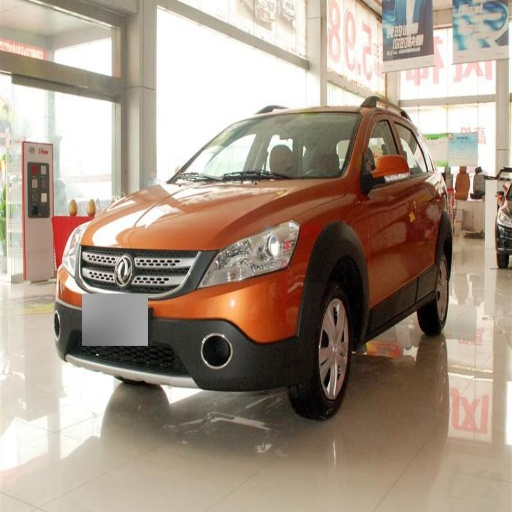front_bumper: (59, 246, 306, 391)
front_glass: (171, 113, 360, 181)
front_left_door: (360, 108, 416, 315)
